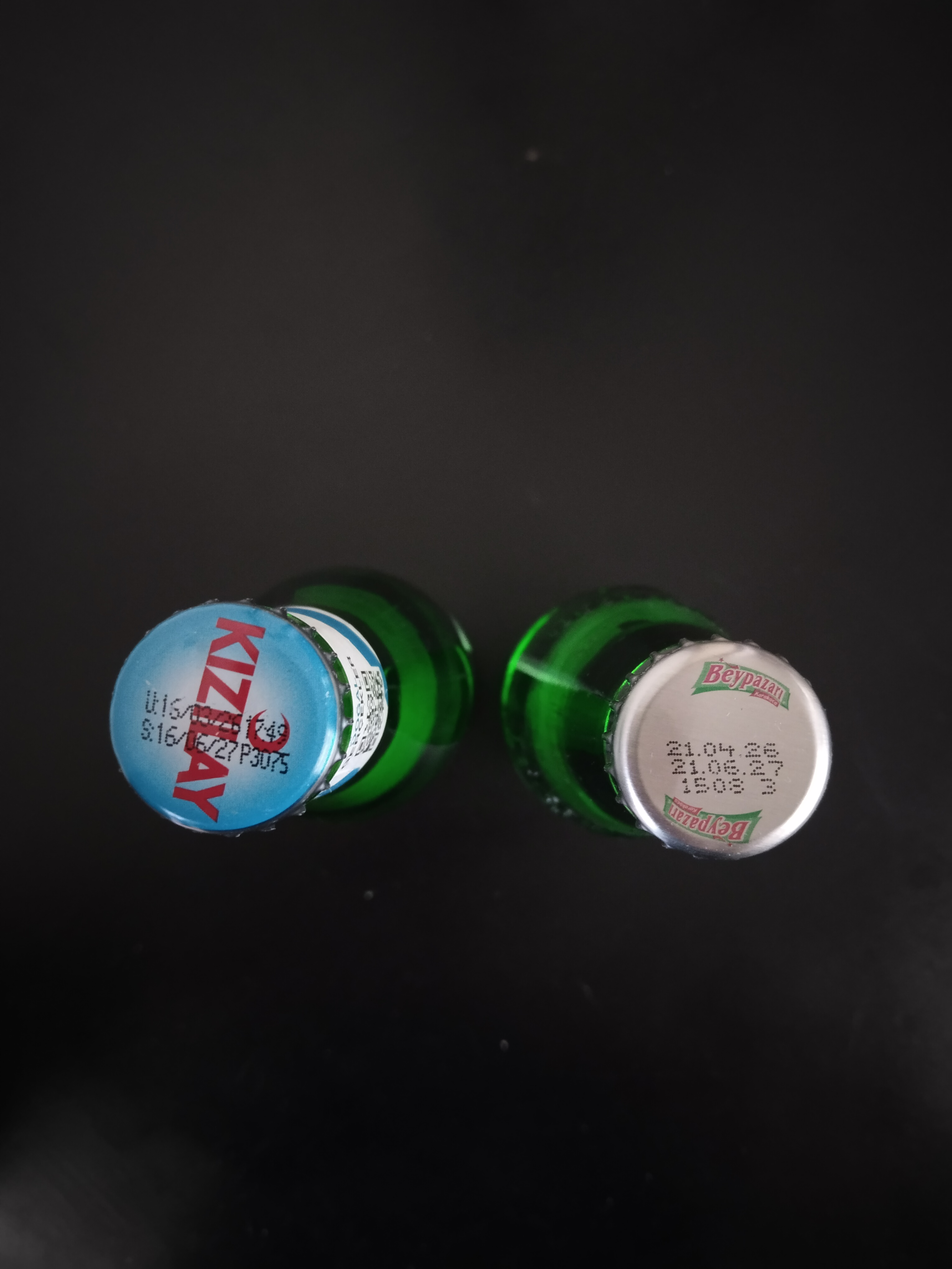beypazari_maden_suyu: (504, 594, 833, 861)
kizilay_maden_suyu: (106, 575, 481, 830)
